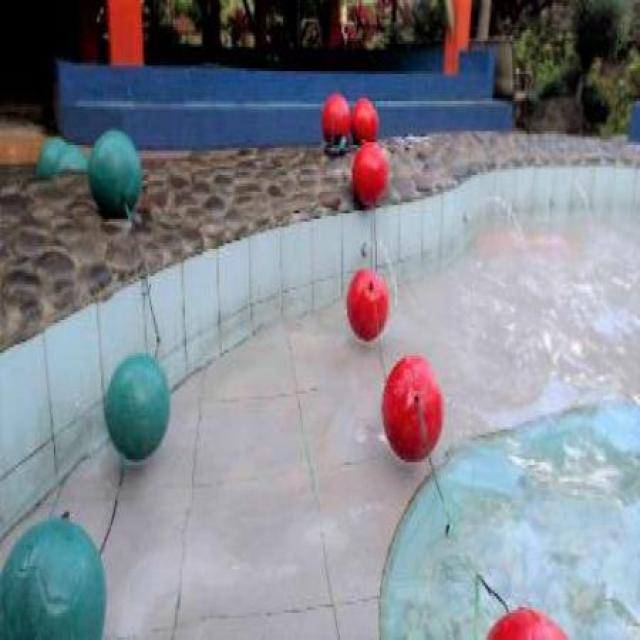buoy: (2, 517, 106, 638), (104, 354, 170, 461), (381, 353, 444, 462), (87, 128, 141, 216), (346, 266, 390, 341), (350, 138, 388, 206), (320, 92, 350, 143), (349, 97, 378, 143)
